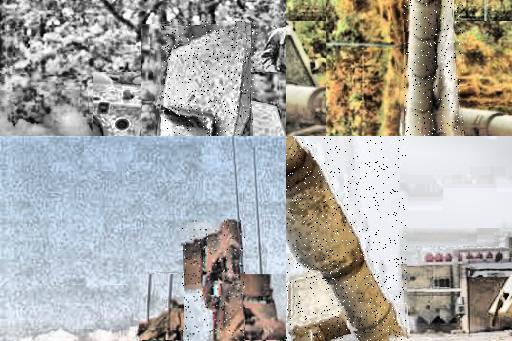tanks: (287, 137, 407, 341), (163, 22, 254, 137), (405, 1, 462, 137), (183, 222, 245, 341), (495, 274, 512, 341)
